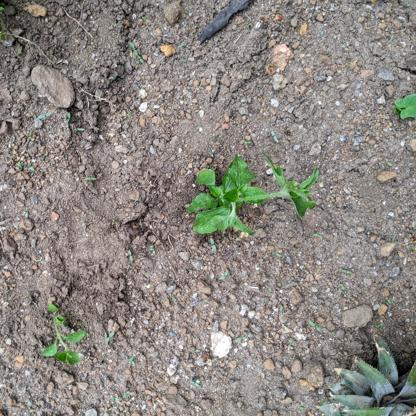pineapple: (320, 334, 416, 416)
weed: (188, 156, 322, 235), (42, 299, 89, 366)
